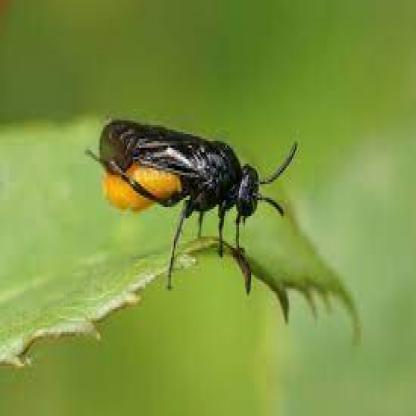sawfly: (81, 113, 301, 300)
